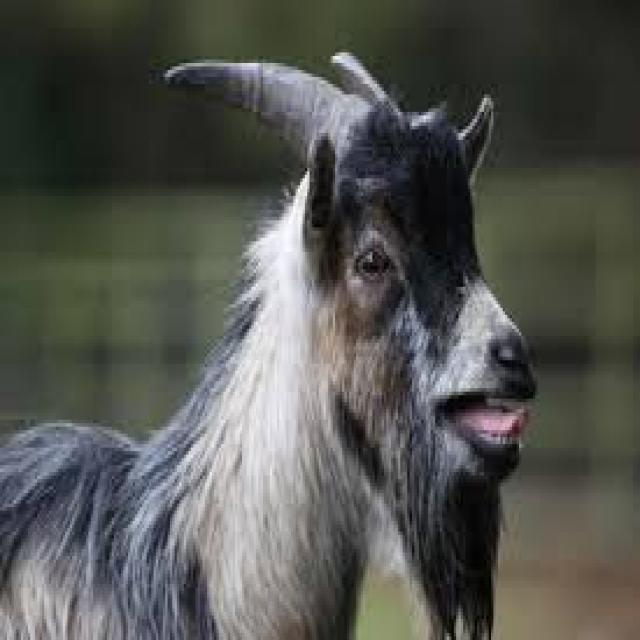Goat: (0, 49, 540, 636)
